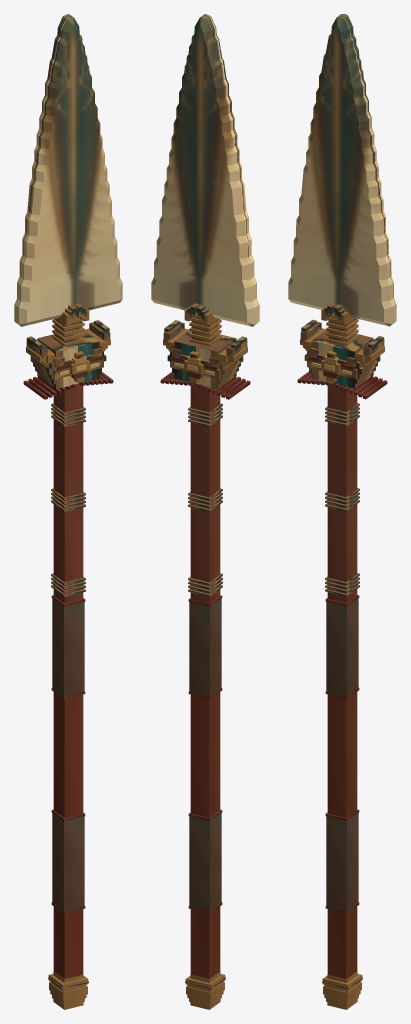
Rendered from bronze_spear.obj.
The picture shows the model from 3 angles, left to right: view 1: azimuth 30°, elevation 25°; view 2: azimuth 150°, elevation 25°; view 3: azimuth 330°, elevation 25°; orthographic projection.
Parts seen in each view (by area): view 1: bronze_spear; view 2: bronze_spear; view 3: bronze_spear.
Boxes of the visible parts, bbox=[...] form: bronze_spear: bbox=[14, 14, 122, 1009]; bronze_spear: bbox=[151, 14, 259, 1009]; bronze_spear: bbox=[288, 14, 396, 1009].
Bounding box in the file's own units: 0.3193 × 2.91 × 0.1385.
